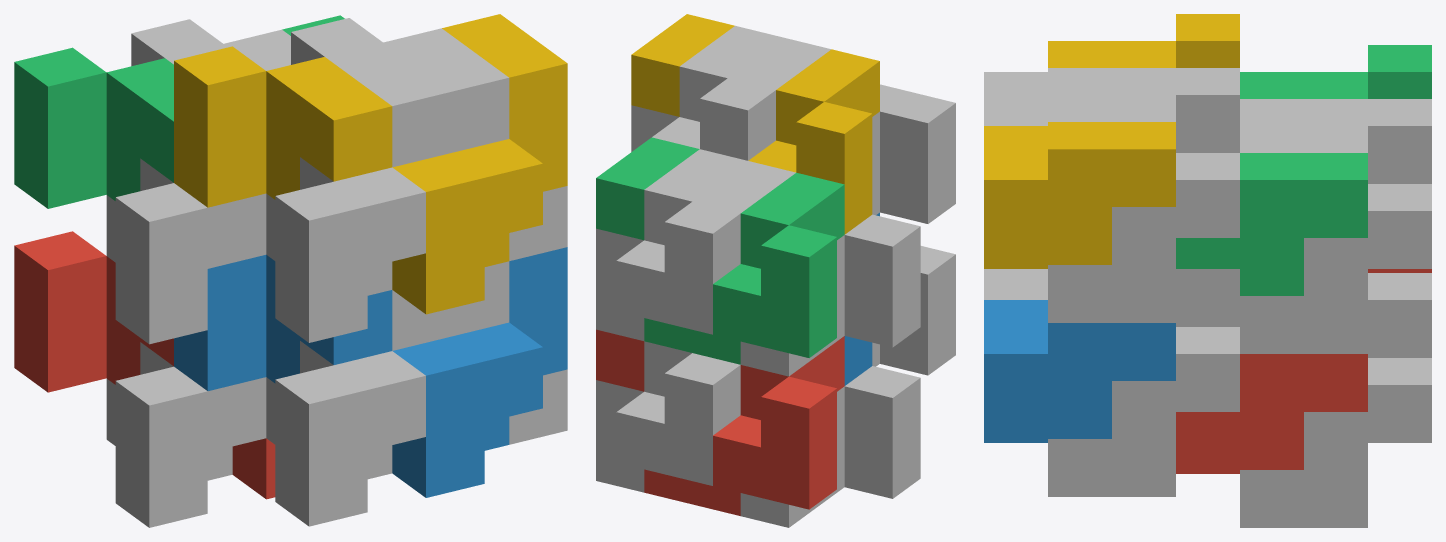
Rendered from tiling.obj.
The picture shows the model from 3 angles, left to right: view 1: azimuth 30°, elevation 25°; view 2: azimuth 150°, elevation 25°; view 3: azimuth 270°, elevation 25°; orthographic projection. The views are drawn at different scales.
Parts seen in each view (by area): view 1: copy_2_domain_4, copy_1_domain_4, copy_2_domain_8, copy_2_domain_2, copy_2_domain_6, copy_1_domain_3, copy_2_domain_1, copy_2_domain_3, copy_1_domain_1, copy_1_domain_2, copy_1_domain_8, copy_1_domain_6 (+2 smaller); view 2: copy_1_domain_3, copy_1_domain_7, copy_1_domain_1, copy_1_domain_5, copy_2_domain_3, copy_1_domain_4, copy_2_domain_4, copy_1_domain_8, copy_2_domain_1, copy_2_domain_7, copy_2_domain_2, copy_2_domain_8 (+2 smaller); view 3: copy_1_domain_7, copy_1_domain_8, copy_2_domain_8, copy_1_domain_5, copy_1_domain_6, copy_2_domain_6, copy_2_domain_7, copy_2_domain_5, copy_1_domain_3, copy_1_domain_4, copy_2_domain_4, copy_2_domain_3 (+1 smaller).
Part boxes in pixels (x1,y1,x2,y2): copy_2_domain_4: [266, 42, 450, 342]; copy_1_domain_4: [174, 46, 392, 207]; copy_2_domain_8: [392, 14, 567, 314]; copy_2_domain_2: [266, 290, 450, 526]; copy_2_domain_6: [392, 247, 567, 497]; copy_1_domain_3: [14, 47, 173, 208]; copy_2_domain_1: [106, 342, 266, 527]; copy_2_domain_3: [106, 44, 266, 344]; copy_1_domain_1: [14, 231, 173, 392]; copy_1_domain_2: [174, 254, 392, 390]; copy_1_domain_8: [291, 18, 567, 260]; copy_1_domain_6: [450, 261, 567, 444]; copy_1_domain_3: [692, 172, 844, 364]; copy_1_domain_7: [596, 149, 747, 340]; copy_1_domain_1: [692, 336, 844, 515]; copy_1_domain_5: [596, 341, 740, 492]; copy_2_domain_3: [693, 161, 920, 376]; copy_1_domain_4: [748, 49, 879, 234]; copy_2_domain_4: [728, 37, 955, 223]; copy_1_domain_8: [631, 25, 782, 160]; copy_2_domain_1: [740, 366, 920, 527]; copy_2_domain_7: [596, 137, 699, 352]; copy_2_domain_2: [872, 246, 955, 375]; copy_2_domain_8: [631, 14, 734, 116]; copy_1_domain_7: [1240, 99, 1431, 353]; copy_1_domain_8: [1048, 68, 1239, 322]; copy_2_domain_8: [984, 122, 1175, 268]; copy_1_domain_5: [1240, 273, 1431, 527]; copy_1_domain_6: [1048, 269, 1239, 496]; copy_2_domain_6: [984, 300, 1175, 442]; copy_2_domain_7: [1176, 153, 1367, 295]; copy_2_domain_5: [1176, 354, 1367, 473]; copy_1_domain_3: [1240, 45, 1431, 98]; copy_1_domain_4: [1048, 14, 1239, 67]; copy_2_domain_4: [984, 68, 1175, 125]; copy_2_domain_3: [1240, 99, 1367, 125].
Size of the model in its own units: 6 by 7 by 7.
